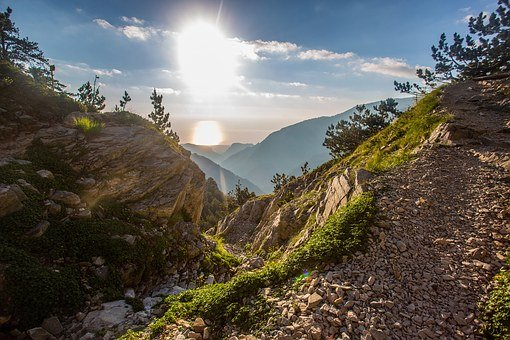mountain: (215, 87, 509, 336), (11, 78, 220, 331)
sky: (46, 5, 442, 119)
